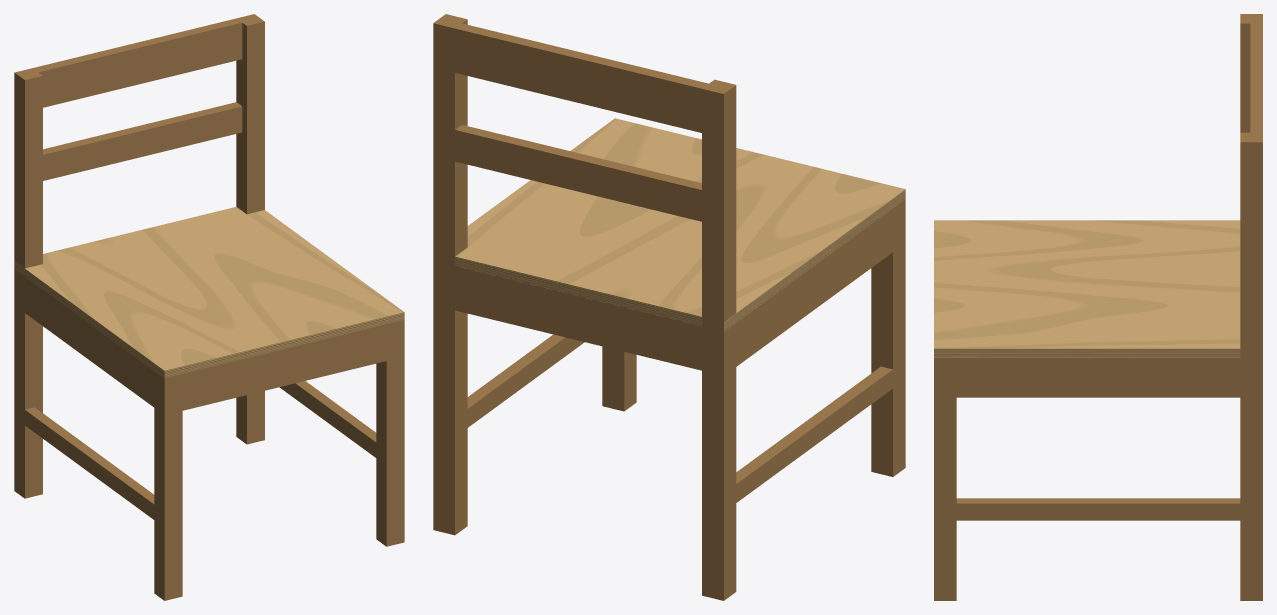
The model's file is HIN-OCH-std.glb.
The picture shows the model from 3 angles, left to right: view 1: azimuth 30°, elevation 25°; view 2: azimuth 150°, elevation 25°; view 3: azimuth 270°, elevation 25°; orthographic projection. The views are drawn at different scales.
Visible parts, largest first — view 1: seat:sheet:eyJtIjoicGx5Iiwic2lkZSI6ImZhY2UiLCJzZWVkIjo2LCJ2Z, leg-bl:pbr, back-top:pbr, rail-f:pbr, leg-br:pbr, back-mid:pbr, leg-fl:pbr, leg-fr:pbr, rail-l:pbr, stretcher-l:pbr, stretcher-r:pbr, seat:sheet:eyJtIjoicGx5Iiwic2lkZSI6ImVkZ2UtZW5kIiwic2VlZCI6N (+1 smaller); view 2: seat:sheet:eyJtIjoicGx5Iiwic2lkZSI6ImZhY2UiLCJzZWVkIjo2LCJ2Z, leg-bl:pbr, leg-br:pbr, back-top:pbr, rail-b:pbr, back-mid:pbr, leg-fl:pbr, rail-l:pbr, stretcher-l:pbr, stretcher-r:pbr, seat:sheet:eyJtIjoicGx5Iiwic2lkZSI6ImVkZ2UtZW5kIiwic2VlZCI6N, leg-fr:pbr (+1 smaller); view 3: seat:sheet:eyJtIjoicGx5Iiwic2lkZSI6ImZhY2UiLCJzZWVkIjo2LCJ2Z, rail-r:pbr, leg-br:pbr, stretcher-r:pbr, leg-fr:pbr, seat:sheet:eyJtIjoicGx5Iiwic2lkZSI6ImVkZ2UtbG9uZyIsInNlZWQiO, back-top:pbr, leg-bl:pbr.
Boxes of the visible parts, bbox=[...] form: seat:sheet:eyJtIjoicGx5Iiwic2lkZSI6ImZhY2UiLCJzZWVkIjo2LCJ2Z: bbox=[25, 206, 403, 370]; leg-bl:pbr: bbox=[14, 68, 42, 498]; back-top:pbr: bbox=[32, 18, 242, 107]; rail-f:pbr: bbox=[182, 324, 386, 410]; leg-br:pbr: bbox=[236, 14, 264, 444]; back-mid:pbr: bbox=[43, 102, 242, 180]; leg-fl:pbr: bbox=[154, 371, 182, 600]; leg-fr:pbr: bbox=[376, 320, 404, 546]; rail-l:pbr: bbox=[25, 277, 154, 407]; stretcher-l:pbr: bbox=[25, 407, 154, 519]; stretcher-r:pbr: bbox=[279, 381, 376, 457]; seat:sheet:eyJtIjoicGx5Iiwic2lkZSI6ImVkZ2UtZW5kIiwic2VlZCI6N: bbox=[164, 312, 404, 378]; seat:sheet:eyJtIjoicGx5Iiwic2lkZSI6ImZhY2UiLCJzZWVkIjo2LCJ2Z: bbox=[455, 118, 905, 316]; leg-bl:pbr: bbox=[702, 79, 736, 600]; leg-br:pbr: bbox=[433, 14, 467, 535]; back-top:pbr: bbox=[455, 23, 708, 132]; rail-b:pbr: bbox=[455, 266, 701, 370]; back-mid:pbr: bbox=[455, 125, 701, 221]; leg-fl:pbr: bbox=[871, 199, 905, 476]; rail-l:pbr: bbox=[736, 208, 892, 366]; stretcher-l:pbr: bbox=[736, 366, 892, 502]; stretcher-r:pbr: bbox=[467, 334, 584, 427]; seat:sheet:eyJtIjoicGx5Iiwic2lkZSI6ImVkZ2UtZW5kIiwic2VlZCI6N: bbox=[455, 256, 701, 325]; leg-fr:pbr: bbox=[602, 346, 636, 411]; seat:sheet:eyJtIjoicGx5Iiwic2lkZSI6ImZhY2UiLCJzZWVkIjo2LCJ2Z: bbox=[934, 220, 1240, 357]; rail-r:pbr: bbox=[956, 357, 1240, 397]; leg-br:pbr: bbox=[1240, 132, 1262, 600]; stretcher-r:pbr: bbox=[956, 498, 1240, 520]; leg-fr:pbr: bbox=[934, 357, 956, 600]; seat:sheet:eyJtIjoicGx5Iiwic2lkZSI6ImVkZ2UtbG9uZyIsInNlZWQiO: bbox=[934, 348, 1240, 356]; back-top:pbr: bbox=[1250, 23, 1262, 132]; leg-bl:pbr: bbox=[1240, 14, 1262, 132].
Bounding box in the file's own units: 0.4801 × 0.8 × 0.52.
15 materials, 3 textured.
